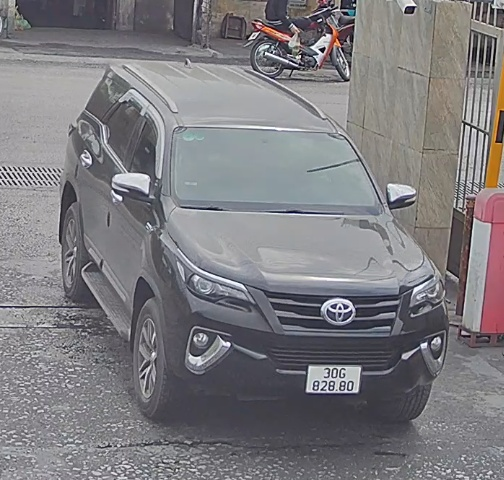vehicle plate: (300, 361, 371, 400)
